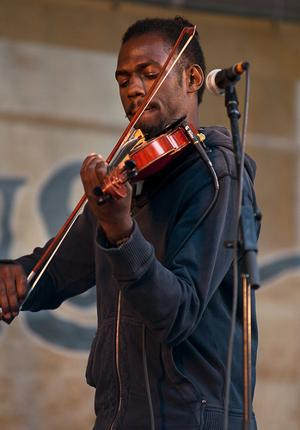person: (3, 19, 260, 430)
